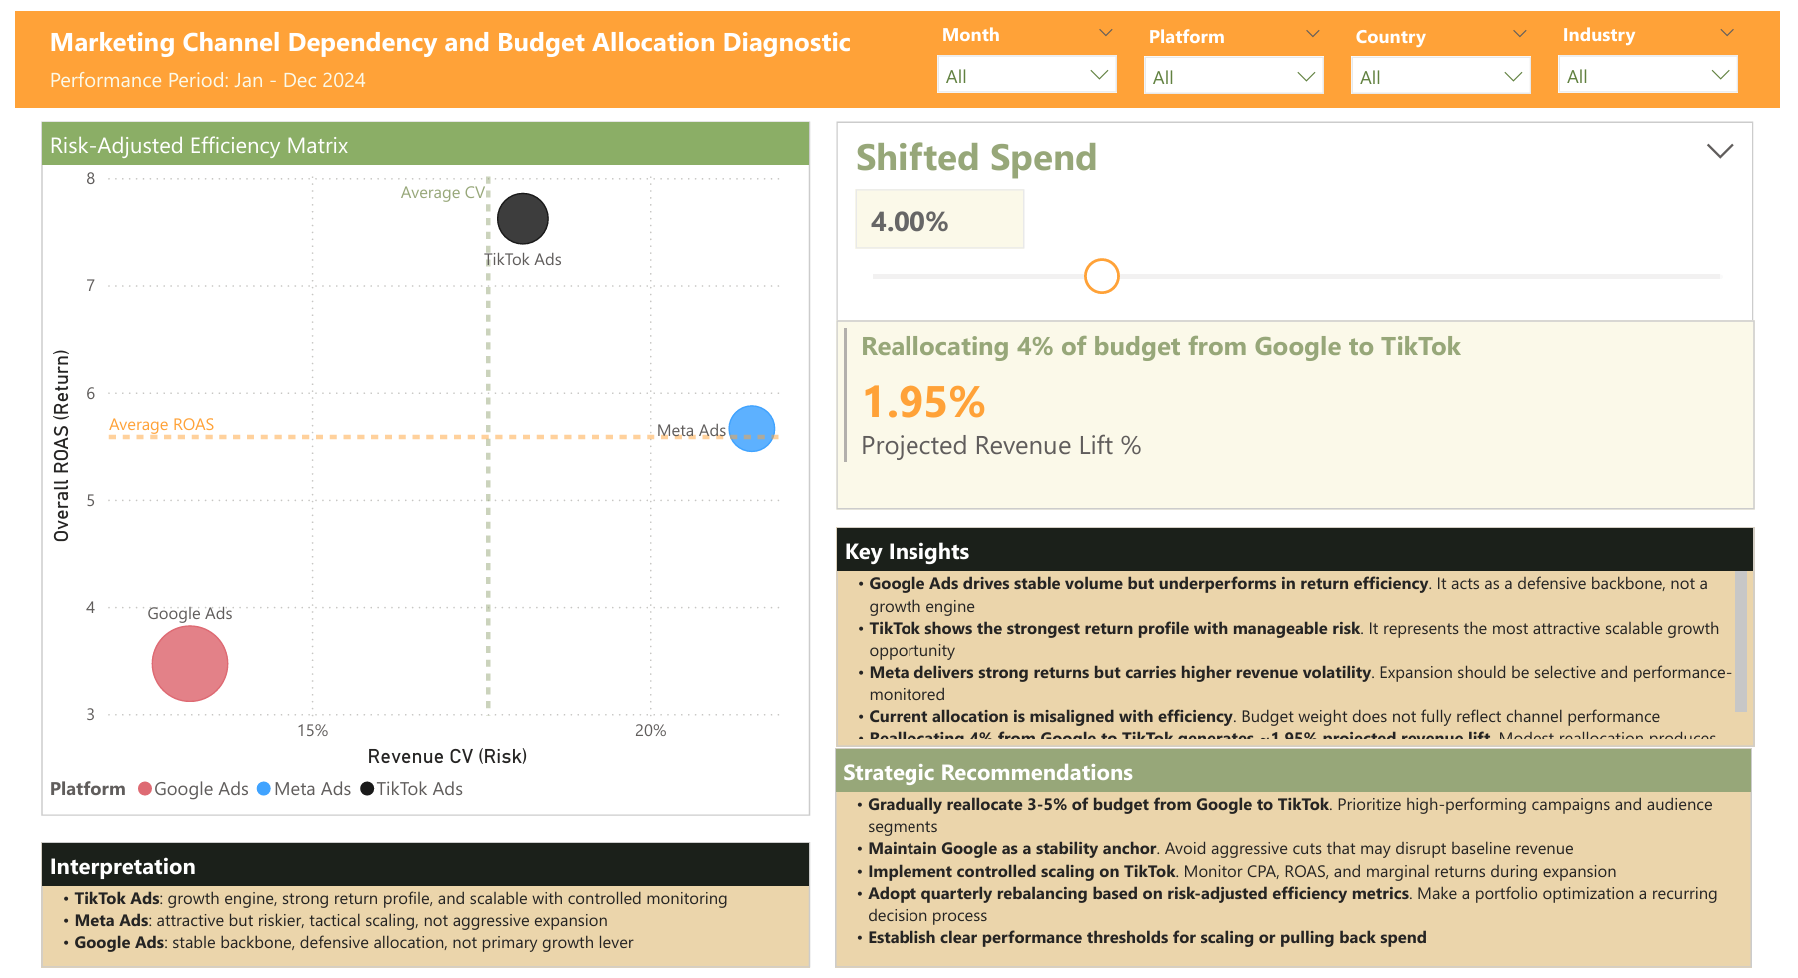

What the dashboard file says about the page in this screenshot:
{"tool":"powerbi","page":{"name":"Strategic Budget Reallocation and Portfolio Optimization","canvas":[1280,720],"ordinal":2},"visuals":[{"type":"textbox","box":[0,0,1279.4,70],"z":0},{"type":"textbox","title":"Marketing Channel Dependency and Budget Allocation Diagnostic","box":[20.4,8.7,620.1,53.9],"z":1000},{"type":"slicer","fields":{"Values":["raw.industry"]},"box":[1109.1,2.9,150,65.5],"z":2000},{"type":"slicer","fields":{"Values":["raw.country"]},"box":[959.2,4.4,149.9,65.5],"z":3000},{"type":"slicer","fields":{"Values":["raw.platform"]},"box":[809.3,4.4,149.9,65.5],"z":4000},{"type":"slicer","fields":{"Values":["Date Table.Month Name"]},"box":[659.4,2.9,149.9,65.5],"z":5000},{"type":"scatterChart","title":"Risk-Adjusted Efficiency Matrix","fields":{"X":["raw.Revenue CV"],"Y":["raw.Overall ROAS"],"Size":["raw.Total Spend"],"Series":["raw.platform"]},"box":[19.1,79.7,556.5,502.8],"z":6000},{"type":"textbox","title":"Interpretation","box":[19.1,601.6,556.5,91.9],"z":7000},{"type":"slicer","fields":{"Values":["Shifted Spend.Shifted Spend"]},"box":[594.6,79.7,665.7,280.9],"z":8000},{"type":"multiRowCard","title":"Projected Revenue Lift from Budget Reallocation Scenario","fields":{"Values":["raw.Scenario Label","raw.Projected Revenue Lift %"]},"box":[595.3,224.2,665.2,136.8],"z":9000},{"type":"textbox","title":"Key Insights","box":[595.3,374.1,665.2,159],"z":10000},{"type":"textbox","title":"Strategic Recommendations","box":[593.9,534.2,665.2,158.7],"z":11000}]}

Visuals, with their boxes on the page's 1280x720 design canvas (x1, y1, x2, y2). These are canvas units, not pixel positions in the 1798x978 screenshot, which may show the page scaled, cropped or inside an application window:
textbox: bbox=[0, 0, 1279, 70]
"Marketing Channel Dependency and Budget Allocation Diagnostic" textbox: bbox=[20, 9, 640, 63]
slicer - raw.industry: bbox=[1109, 3, 1259, 68]
slicer - raw.country: bbox=[959, 4, 1109, 70]
slicer - raw.platform: bbox=[809, 4, 959, 70]
slicer - Date Table.Month Name: bbox=[659, 3, 809, 68]
"Risk-Adjusted Efficiency Matrix" scatterChart: bbox=[19, 80, 576, 582]
"Interpretation" textbox: bbox=[19, 602, 576, 694]
slicer - Shifted Spend.Shifted Spend: bbox=[595, 80, 1260, 361]
"Projected Revenue Lift from Budget Reallocation Scenario" multiRowCard: bbox=[595, 224, 1260, 361]
"Key Insights" textbox: bbox=[595, 374, 1260, 533]
"Strategic Recommendations" textbox: bbox=[594, 534, 1259, 693]
